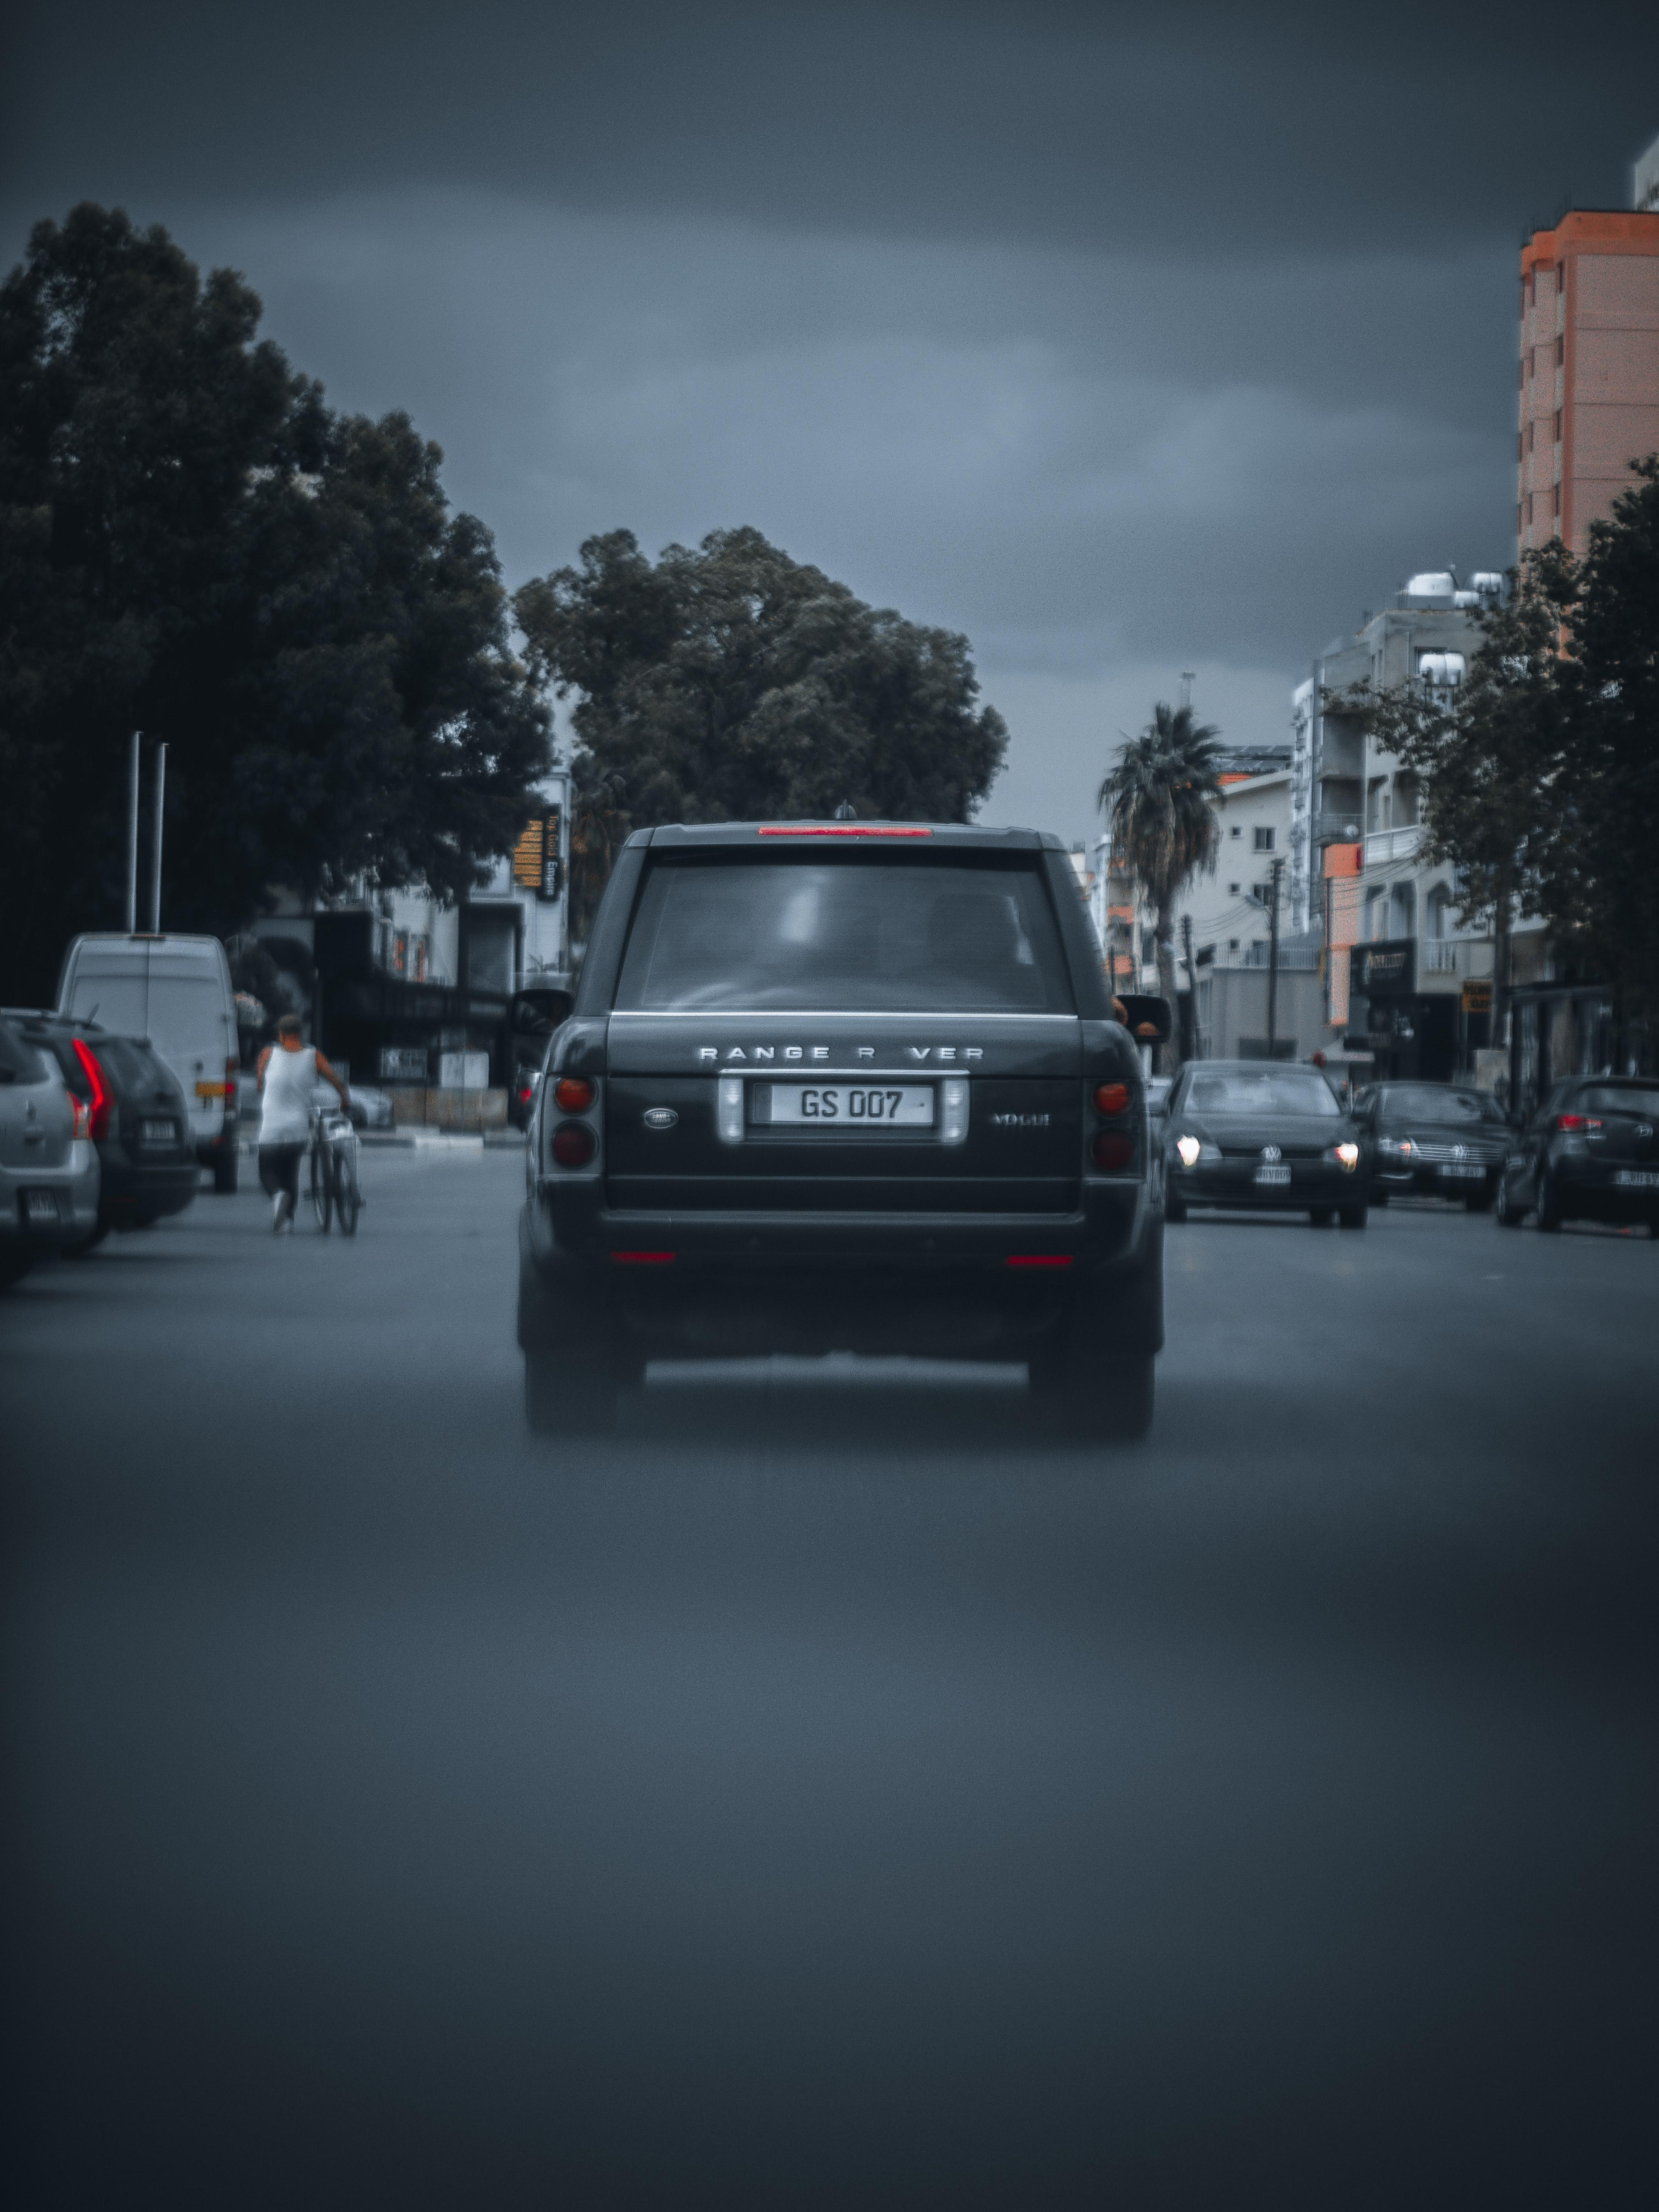range rover: (687, 1028, 1012, 1082)
